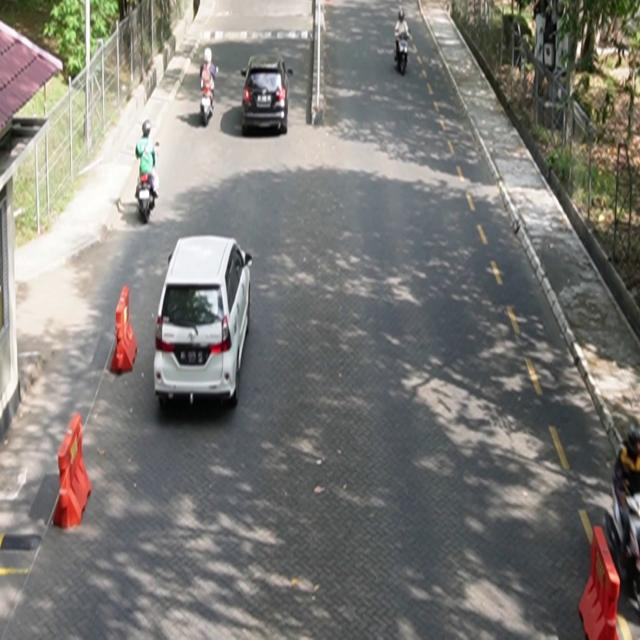car: (154, 234, 253, 410), (242, 54, 295, 136)
